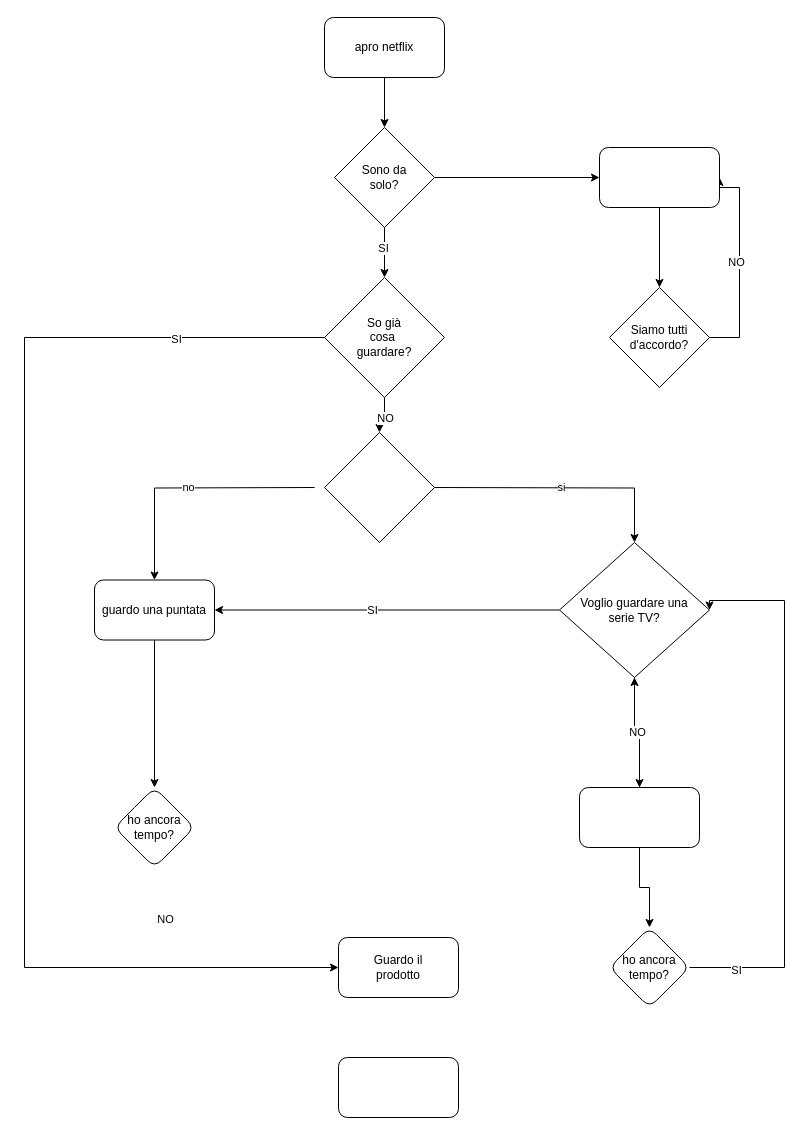
Image size: 810x1135. Some labels were removed from this diagram. Each missing label, with the centre of its shape:
"chiudo netflix" goes at pixel 398 1087.
"guardo un film" goes at pixel 639 817.
"Il tempo è importante?" goes at pixel 379 487.
"Propongo un genere" goes at pixel 659 177.
